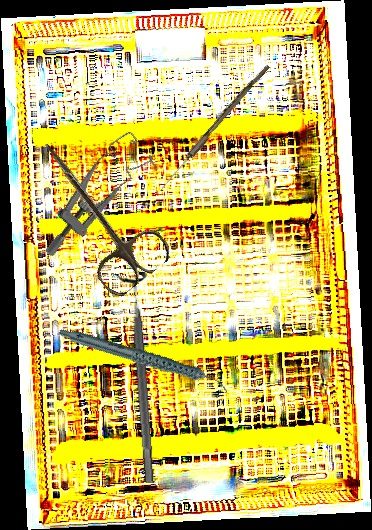Fixation Ring: (114, 271, 167, 485)
Handpiece: (56, 294, 232, 426)
Iris Scissors: (13, 122, 176, 302)
Speculum: (15, 127, 169, 260)
Surgical Spoon: (159, 61, 270, 193)
